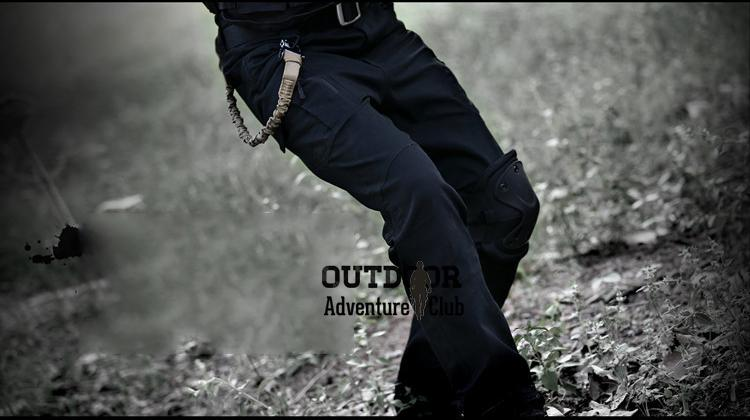pants: (200, 3, 529, 420)
